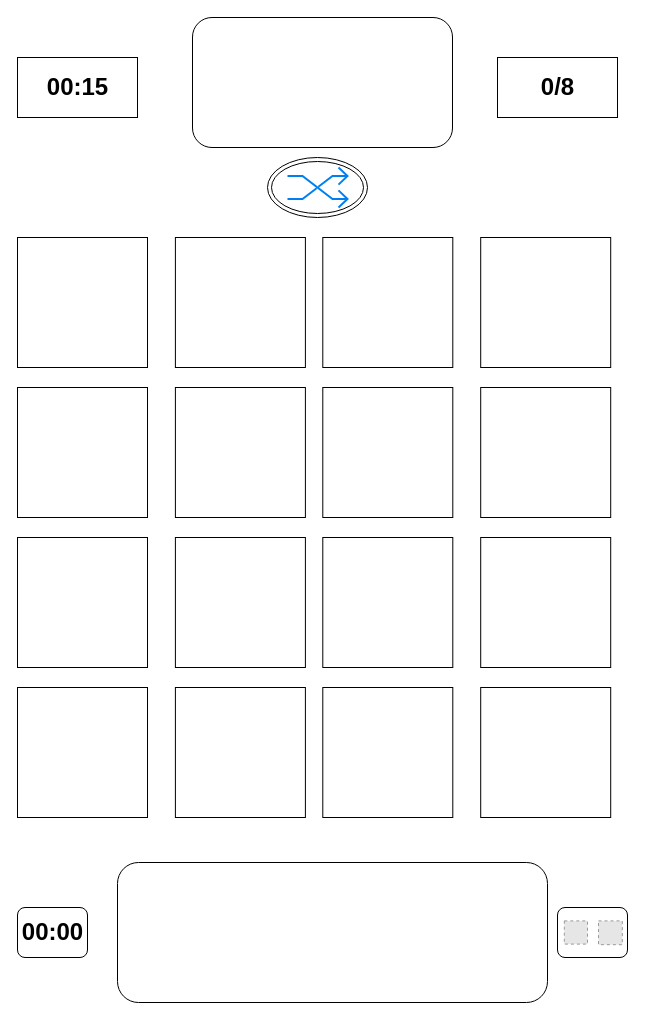
Some shapes in this 645 by 1020 pixel diagram are drawn without their labels. Grey dashed boxes stand in for pictures. Here are the shapes that lost their labels. From the top down, the centre of each, then its label:
[322,82]: LEVEL 1
[332,932]: DETROIT ATTRACTIONS
